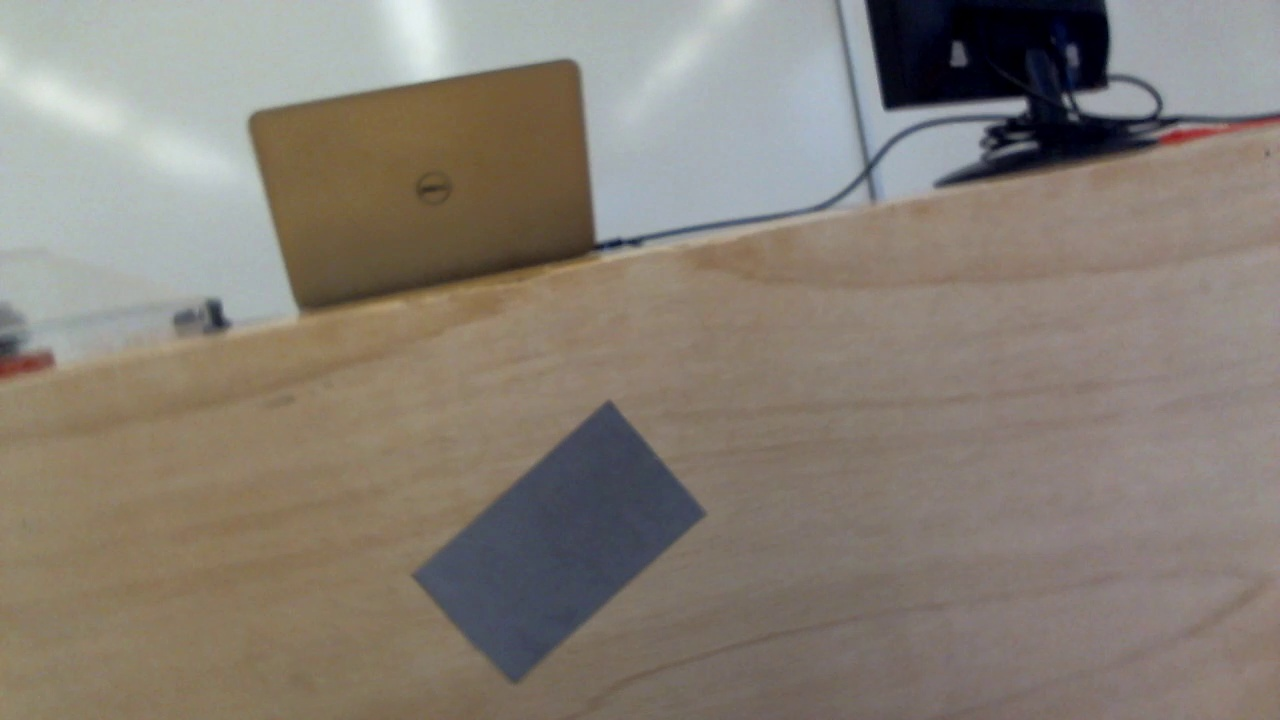Tape: (409, 401, 711, 684)
